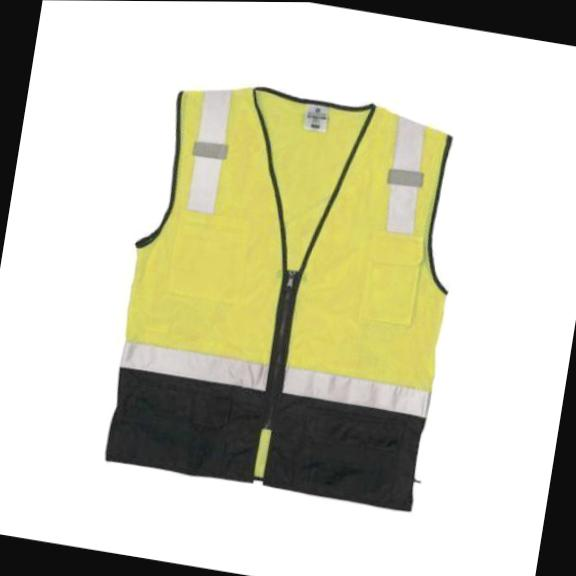safety_vest: (96, 66, 476, 519)
